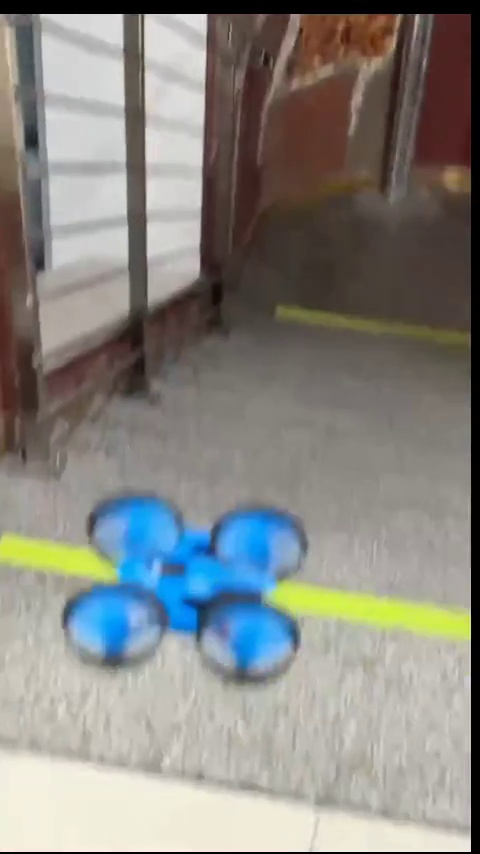drone: (66, 494, 301, 683)
